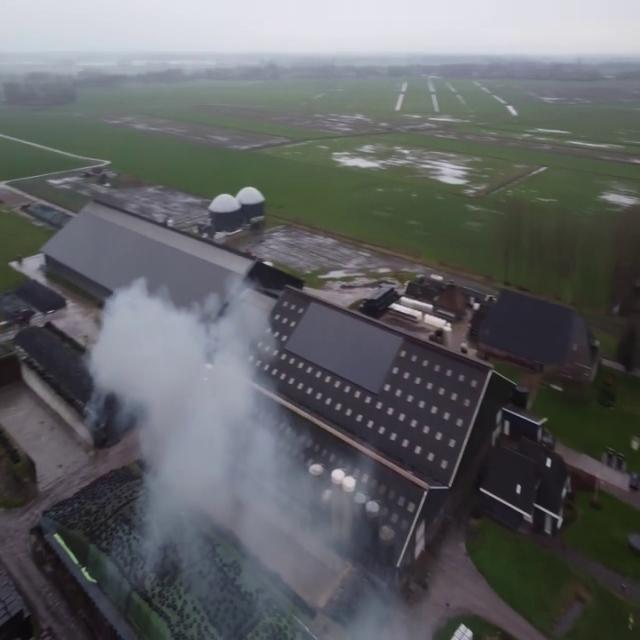Smoke: (68, 230, 436, 632)
